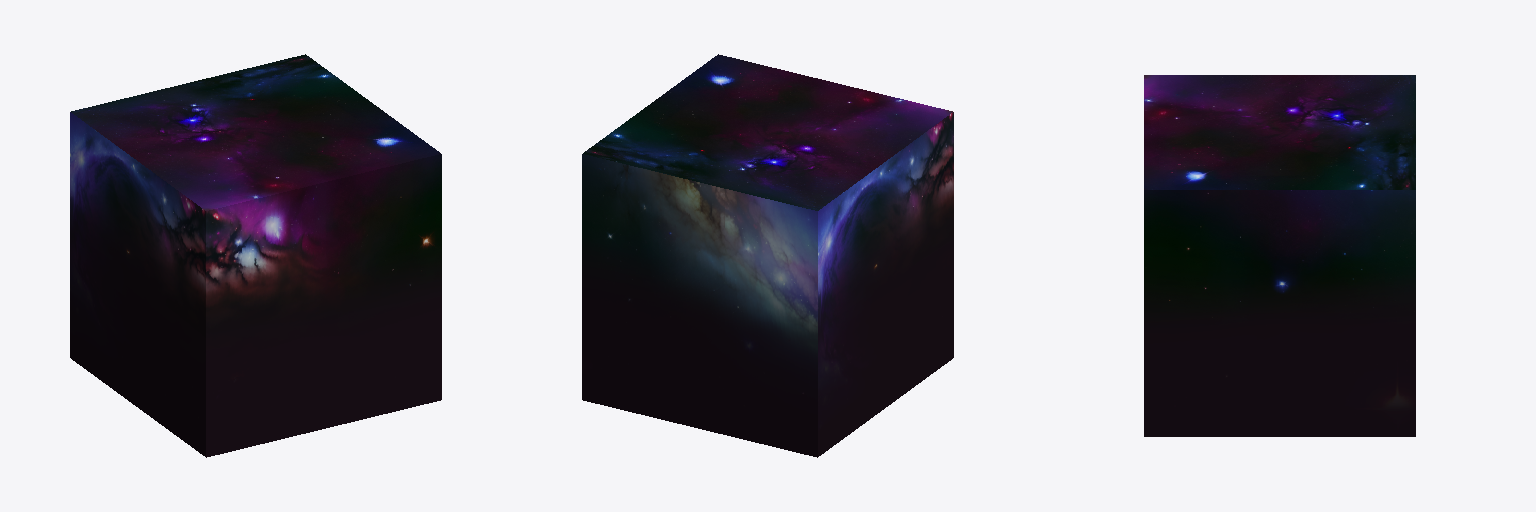
3 renders of one model, left to right at view 1: azimuth 30°, elevation 25°; view 2: azimuth 150°, elevation 25°; view 3: azimuth 270°, elevation 25°, orthographic.
Parts seen in each view (by area): view 1: W_rfel; view 2: W_rfel; view 3: W_rfel.
Part boxes in pixels (bbox=[...]): W_rfel: bbox=[70, 54, 441, 457]; W_rfel: bbox=[582, 54, 953, 457]; W_rfel: bbox=[1144, 75, 1415, 436].
Bounding box in the file's own units: 200 × 200 × 200.
Materials: 1 (1 with a texture image).